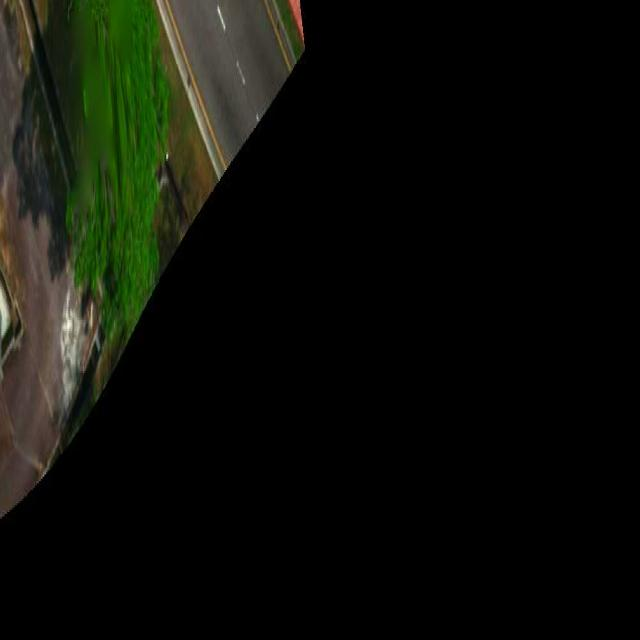Tree: (65, 0, 170, 349)
